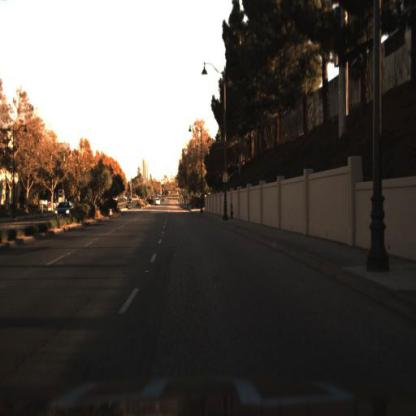car: (52, 202, 72, 222), (152, 194, 164, 212)
